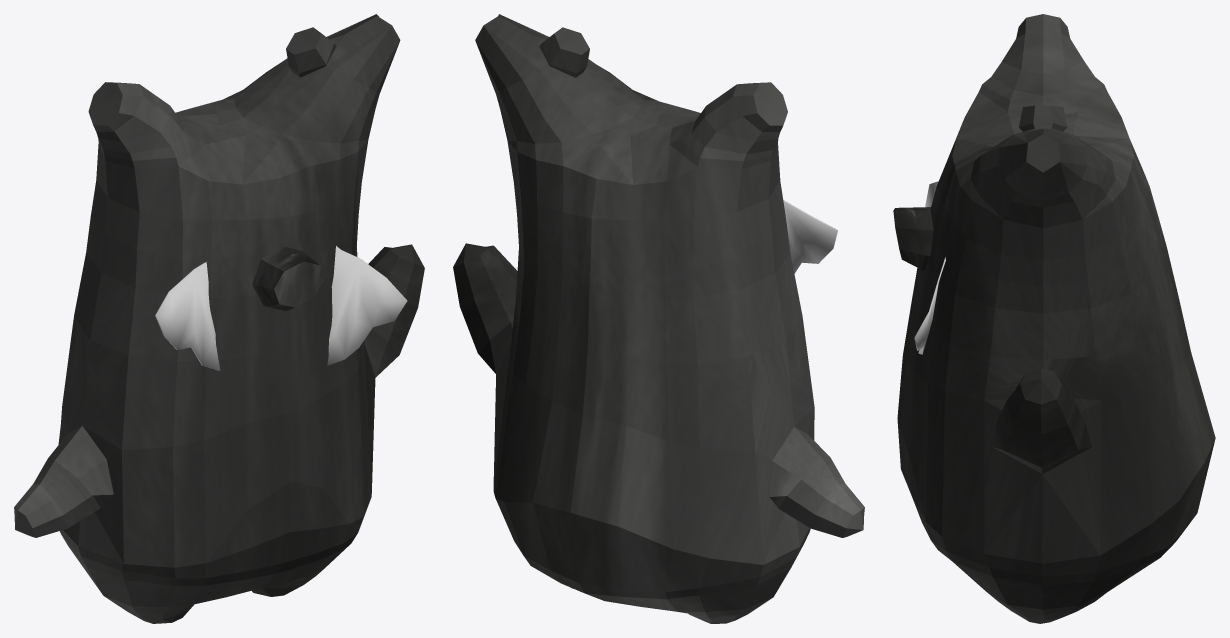
The model's file is frame_0076.obj.
The picture shows the model from 3 angles, left to right: view 1: azimuth 30°, elevation 25°; view 2: azimuth 150°, elevation 25°; view 3: azimuth 270°, elevation 25°; orthographic projection. The views are drawn at different scales.
Parts seen in each view (by area): view 1: korok, leaf, nose; view 2: korok, leaf; view 3: korok, nose, leaf.
Part boxes in pixels (<box>): korok: <box>14,14,424,623</box>; leaf: <box>155,246,407,370</box>; nose: <box>252,246,323,310</box>; korok: <box>453,14,864,623</box>; leaf: <box>676,106,837,273</box>; korok: <box>897,14,1215,623</box>; nose: <box>893,207,933,270</box>; leaf: <box>914,151,966,354</box>.
Size of the model in its own units: 1.67 by 2.17 by 1.18.
